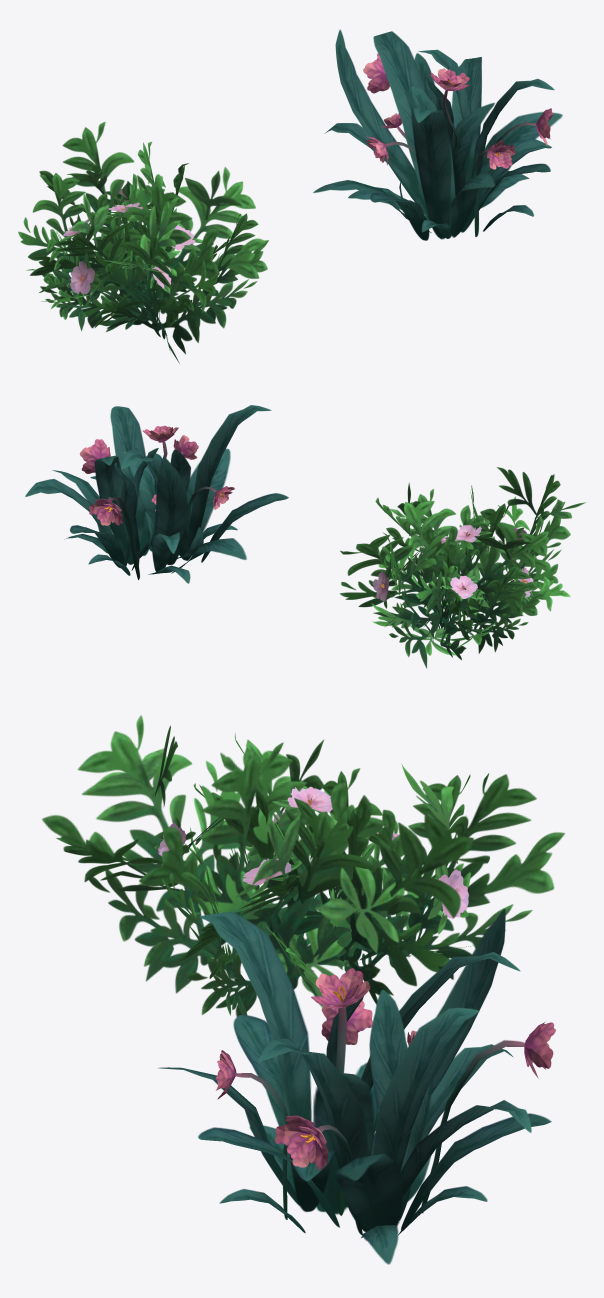
Rendered from bush2_quest.glb.
3 views of the same model, one above another, from view 1: azimuth 30°, elevation 25°; view 2: azimuth 150°, elevation 25°; view 3: azimuth 270°, elevation 25° (orthographic). The views are drawn at different scales.
Visible parts, largest first — view 1: Plane_Material.007_0; view 2: Plane_Material.007_0; view 3: Plane_Material.007_0.
Part boxes in pixels (bbox=[...]): Plane_Material.007_0: bbox=[18, 29, 562, 363]; Plane_Material.007_0: bbox=[25, 405, 585, 668]; Plane_Material.007_0: bbox=[42, 715, 564, 1264].
Size of the model in its own units: 21.32 by 7.25 by 12.27.
1 material, 1 textured.
